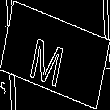M_N: (35, 24, 75, 86)
